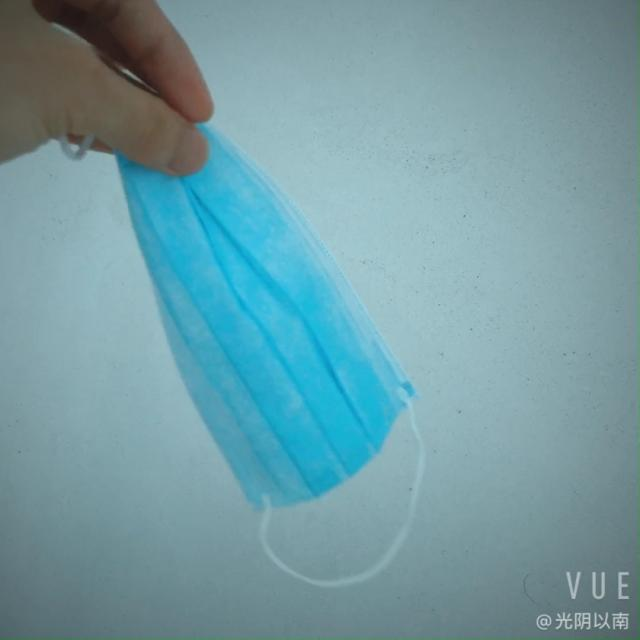non-organic waste: (74, 97, 411, 502)
